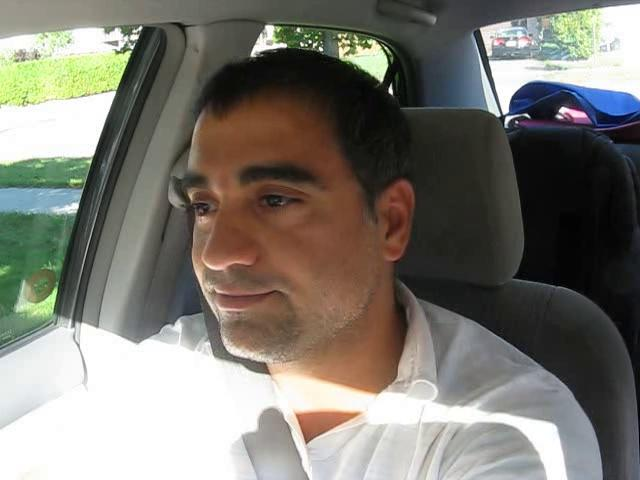no_yawn: (189, 273, 302, 327)
open_eyeL: (179, 190, 229, 226)
open_eyeR: (241, 177, 323, 226)
